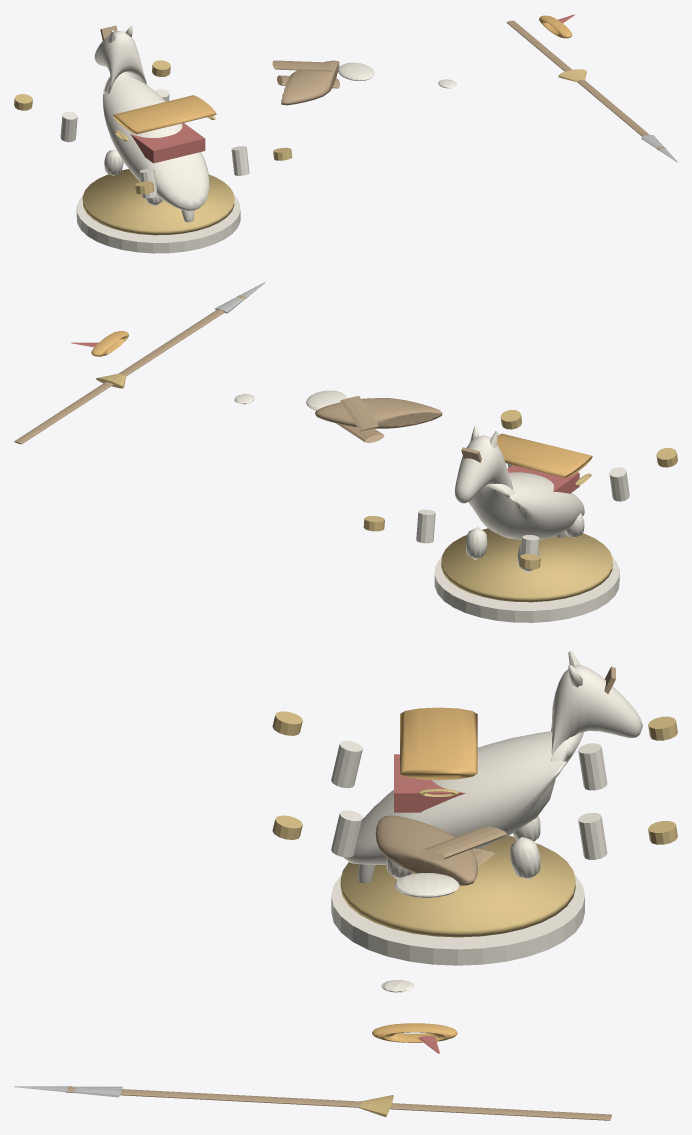
The picture shows the model from 3 angles, top to bottom: view 1: azimuth 30°, elevation 25°; view 2: azimuth 150°, elevation 25°; view 3: azimuth 270°, elevation 25°; orthographic projection. The views are drawn at different scales.
Parts seen in each view (by area): view 1: Horse_Body, Plinth_GoldRim, Plinth_Stone, Rider_Thighs, Horse_SaddleCloth, Rider_Torso, Cavalry_Lance, Rider_LeftArm, Rider_Head, Horse_BR_Lower, Horse_FL_Lower, Rider_Turban (+1 smaller); view 2: Plinth_GoldRim, Horse_Body, Plinth_Stone, Rider_Thighs, Rider_Torso, Cavalry_Lance, Rider_LeftArm, Horse_SaddleCloth, Horse_FR_Lower, Horse_BL_Lower, Horse_FR_Upper, Rider_Turban (+1 smaller); view 3: Horse_Body, Plinth_GoldRim, Plinth_Stone, Rider_Thighs, Rider_Torso, Cavalry_Lance, Horse_SaddleCloth, Rider_LeftArm, Rider_Head, Rider_Turban, Horse_FL_Lower, Horse_BR_Lower (+3 smaller).
Part boxes in pixels (bbox=[...]): Horse_Body: bbox=[94, 31, 209, 210]; Plinth_GoldRim: bbox=[82, 169, 234, 235]; Plinth_Stone: bbox=[76, 195, 240, 253]; Rider_Thighs: bbox=[113, 95, 216, 134]; Horse_SaddleCloth: bbox=[130, 123, 205, 163]; Rider_Torso: bbox=[281, 60, 339, 105]; Cavalry_Lance: bbox=[506, 20, 666, 150]; Rider_LeftArm: bbox=[272, 60, 335, 71]; Rider_Head: bbox=[338, 62, 374, 80]; Horse_BR_Lower: bbox=[231, 146, 249, 175]; Horse_FL_Lower: bbox=[60, 111, 77, 142]; Rider_Turban: bbox=[539, 15, 572, 38]; Plinth_GoldRim: bbox=[441, 528, 612, 602]; Horse_Body: bbox=[454, 435, 584, 539]; Plinth_Stone: bbox=[434, 557, 619, 622]; Rider_Thighs: bbox=[497, 433, 592, 477]; Rider_Torso: bbox=[315, 398, 442, 428]; Cavalry_Lance: bbox=[14, 295, 246, 444]; Rider_LeftArm: bbox=[340, 396, 379, 431]; Horse_SaddleCloth: bbox=[507, 465, 579, 493]; Horse_FR_Lower: bbox=[416, 509, 435, 543]; Horse_BL_Lower: bbox=[609, 467, 629, 501]; Horse_FR_Upper: bbox=[465, 527, 487, 559]; Rider_Turban: bbox=[91, 331, 128, 356]; Horse_Body: bbox=[344, 664, 642, 864]; Plinth_GoldRim: bbox=[340, 835, 575, 937]; Plinth_Stone: bbox=[331, 874, 584, 965]; Rider_Thighs: bbox=[400, 707, 477, 780]; Rider_Torso: bbox=[375, 815, 477, 885]; Cavalry_Lance: bbox=[66, 1086, 611, 1120]; Horse_SaddleCloth: bbox=[394, 754, 465, 812]; Rider_LeftArm: bbox=[418, 826, 506, 860]; Rider_Head: bbox=[394, 873, 459, 897]; Rider_Turban: bbox=[372, 1023, 457, 1042]; Horse_FL_Lower: bbox=[578, 743, 607, 790]; Horse_BR_Lower: bbox=[331, 810, 362, 857].
Bounding box in the file's own units: 2.33 × 0.7496 × 1.78.
